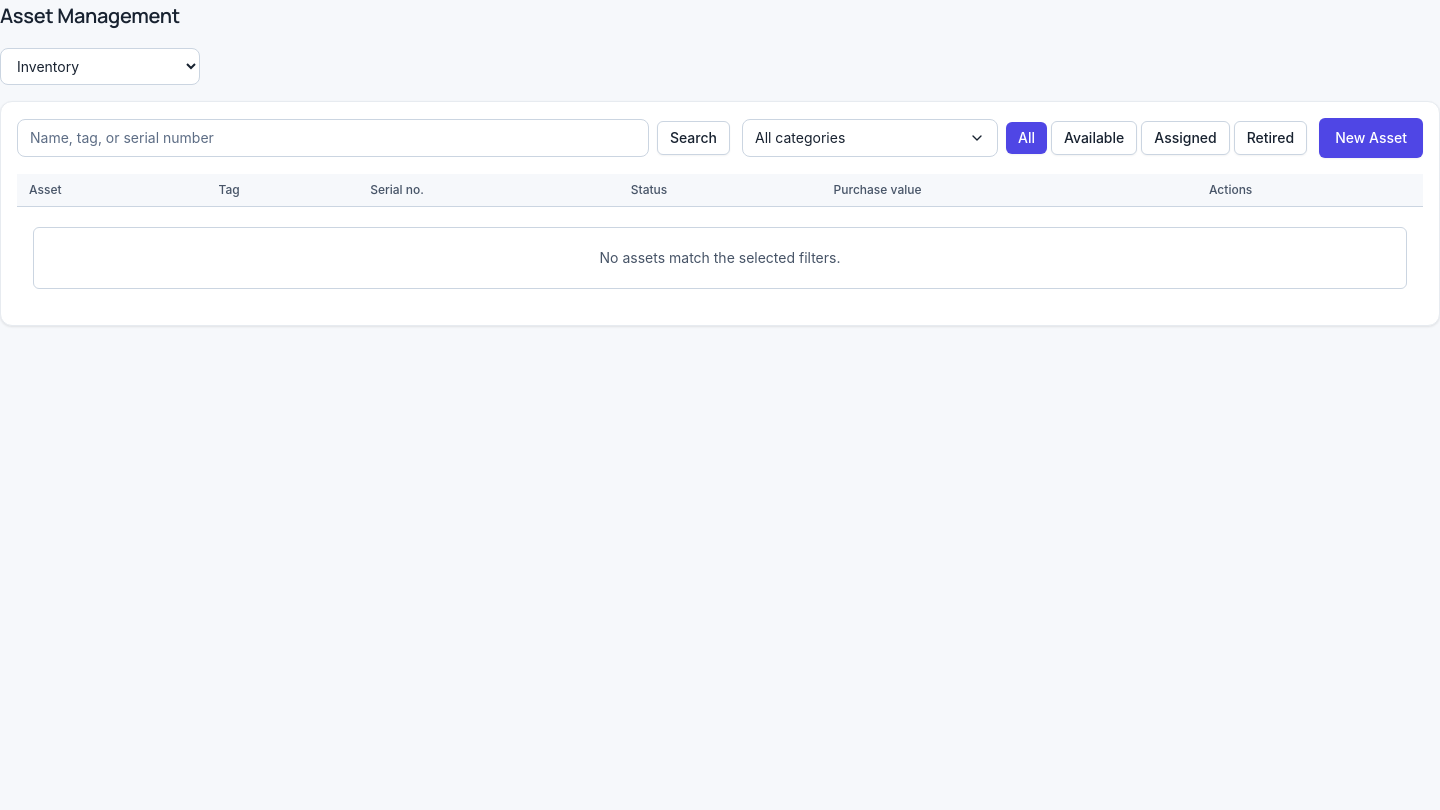
asset workspace navigation › shows one workflow at a time and preserves inventory filters across tabs
Expected: the button "Search" is enabled, [657,121,730,155]
Expected: the number of panels is 1, [0,101,1439,326]
In the field named "Search": (333, 138) [17,119,649,157], type "Laptop"
Click the button "Search": (694, 138) [657,121,730,155]
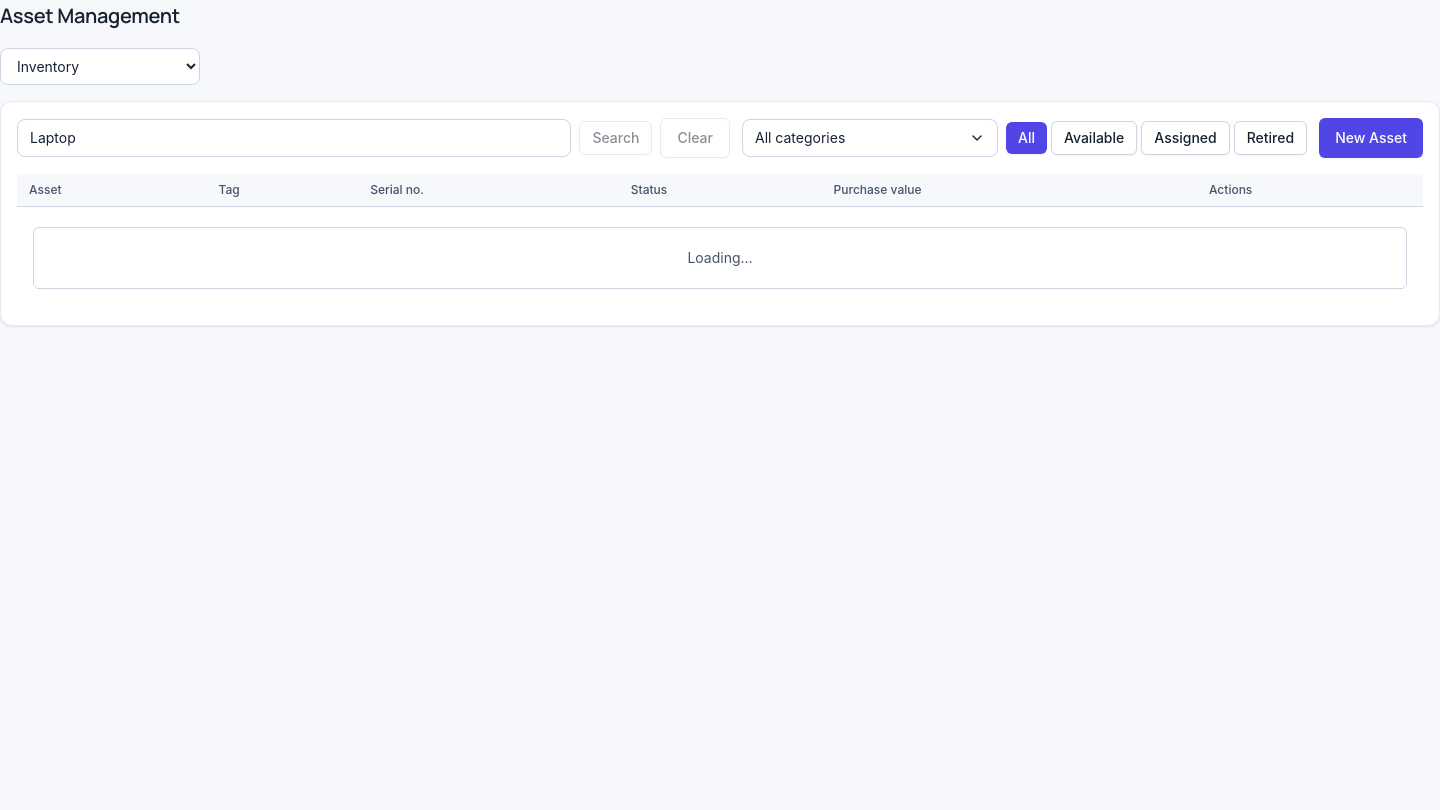
Click the button "Available": (1094, 138) [1051,121,1137,155]
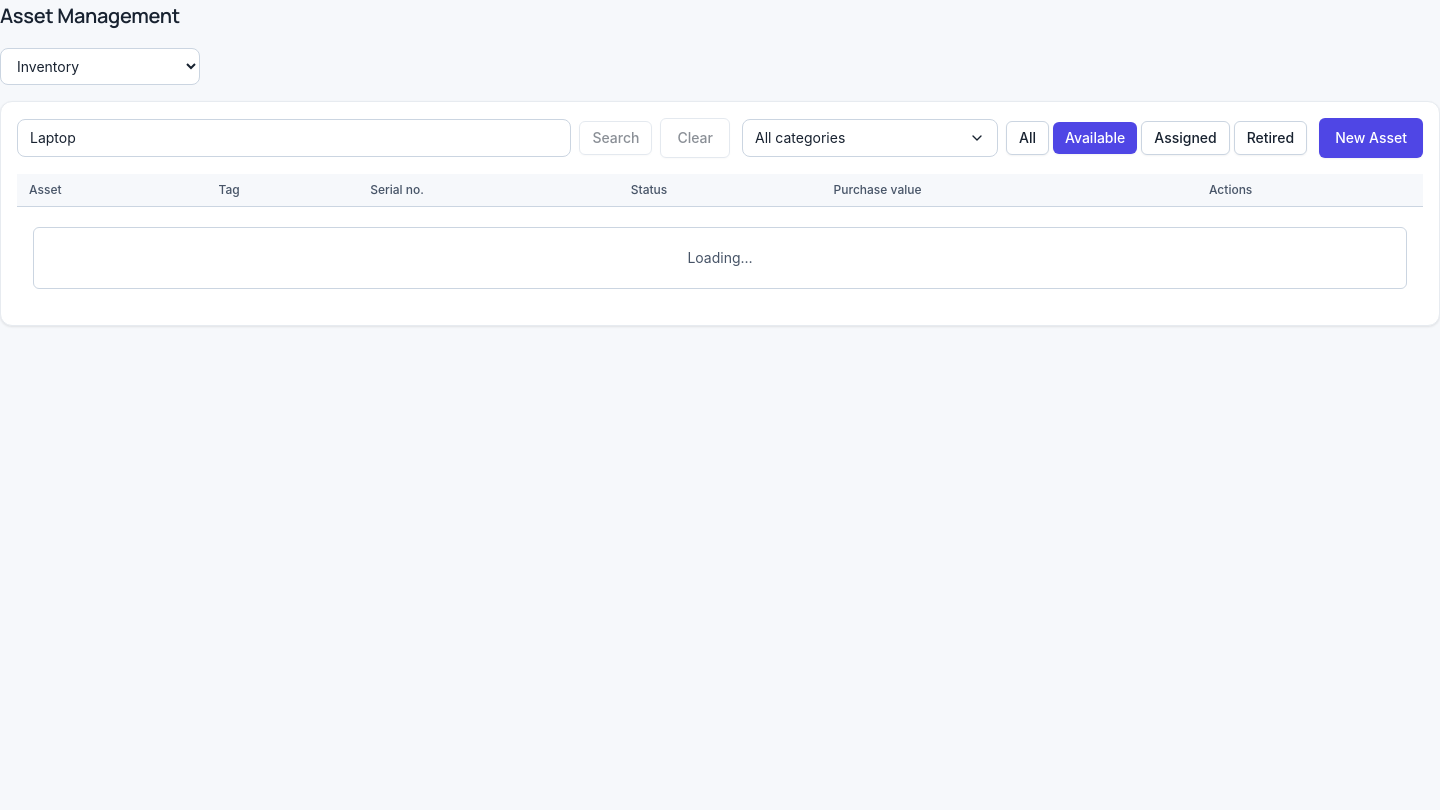
Select "Categories" in the dropdown named "Asset section": (100, 66) [0,48,200,85]
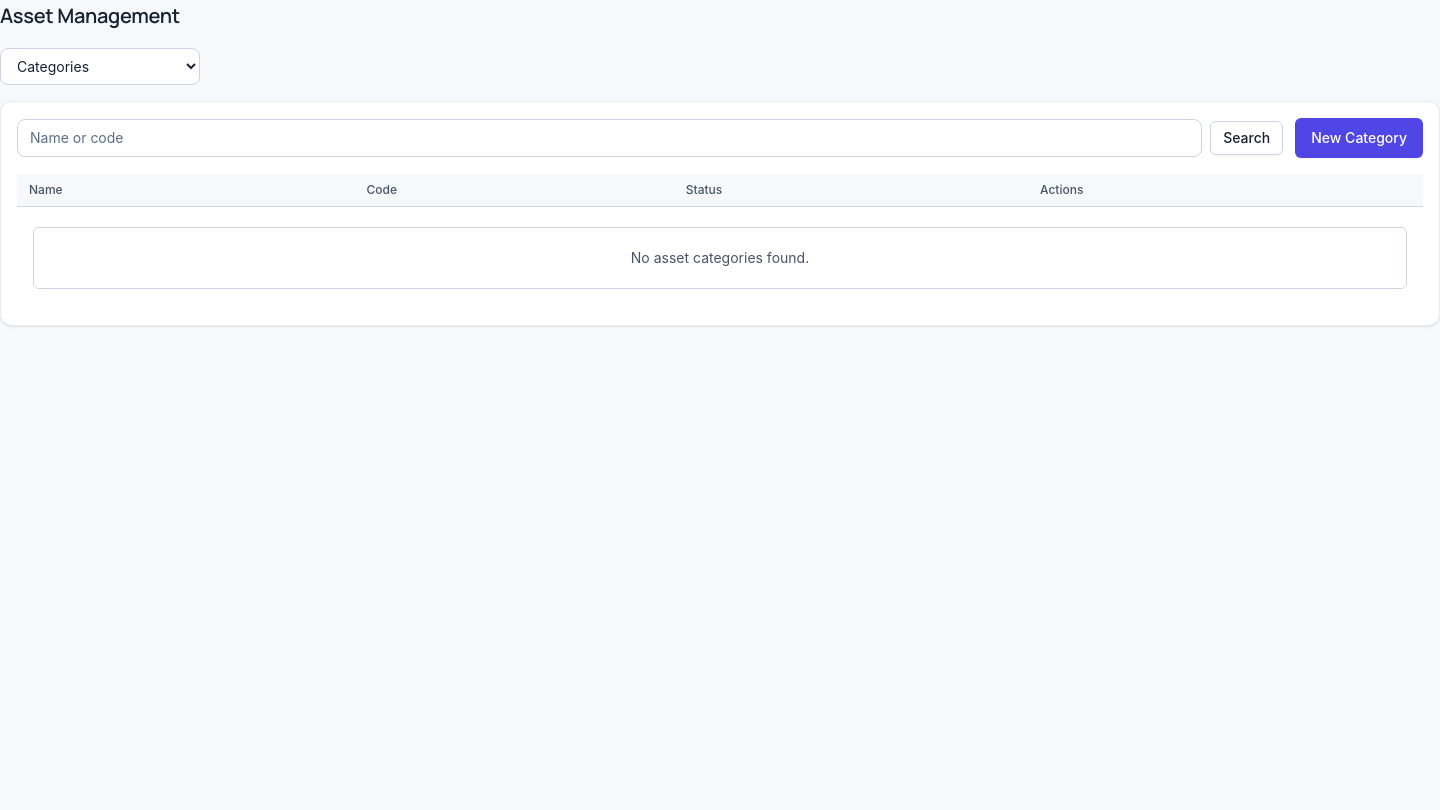
Result: the button "New Category" is shown at [1295,118,1423,158]
Result: the button "New Asset" is gone
Select "Inventory" in the dropdown named "Asset section": (100, 66) [0,48,200,85]
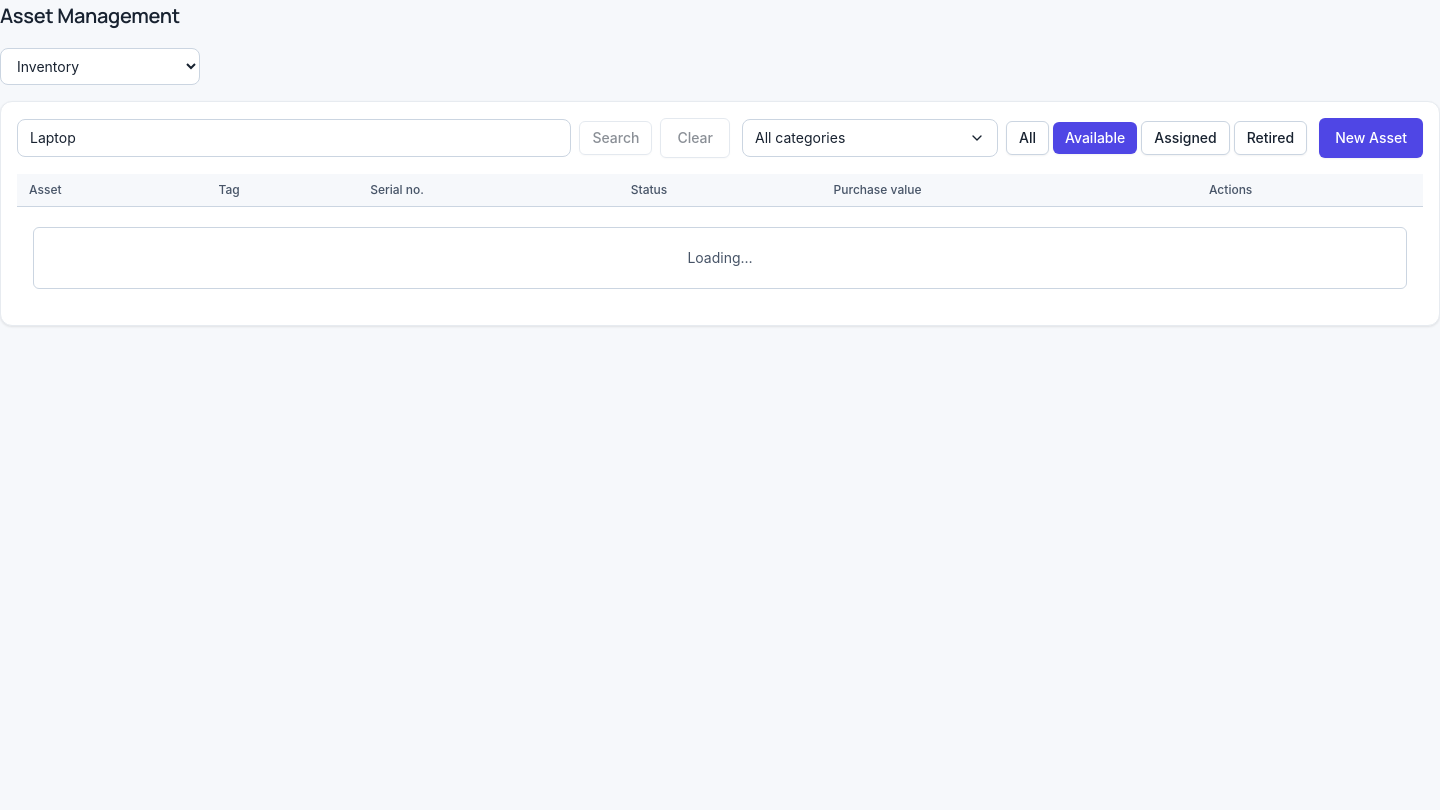
Result: the button "Available" is pressed at [1053,122,1137,154]
Select "Assignments & Returns" in the dropdown named "Asset section": (100, 66) [0,48,200,85]
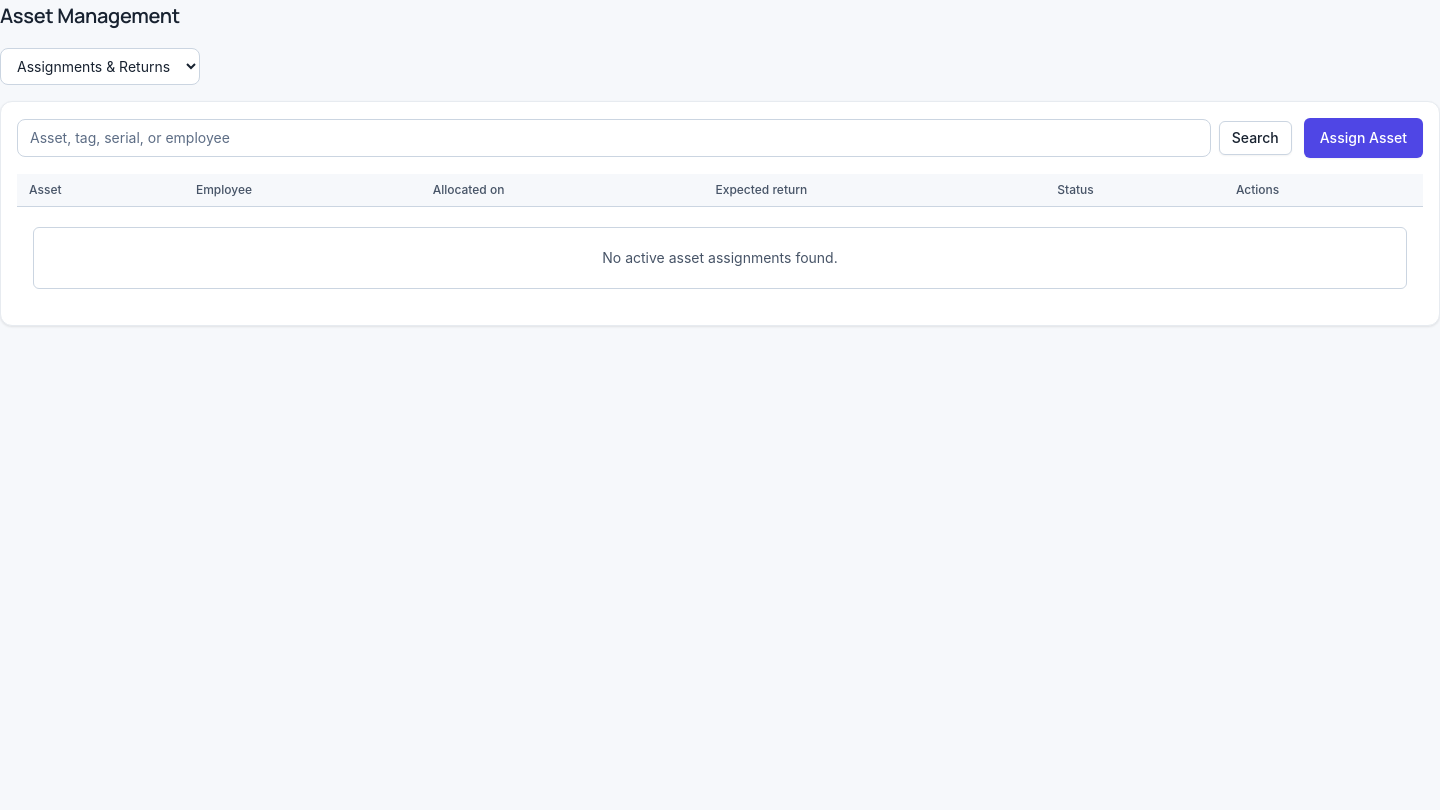
Click the button "Assign Asset": (1363, 138) [1304,118,1423,158]
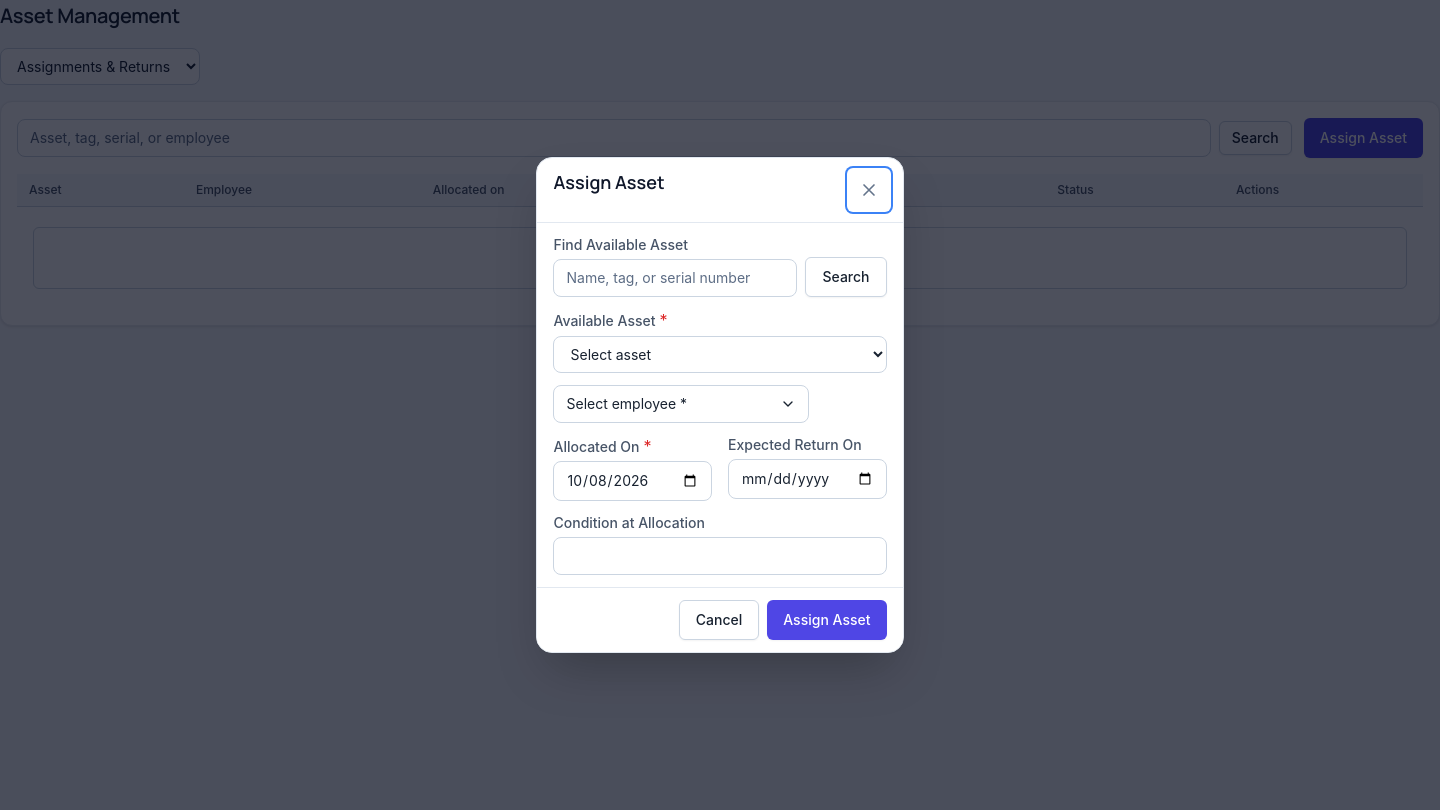
Result: the dialog is shown at [536,157,904,653]
